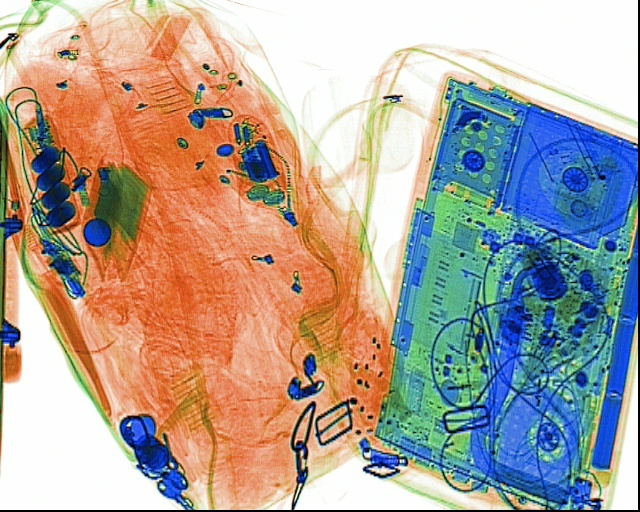powerbank: (21, 114, 82, 236)
